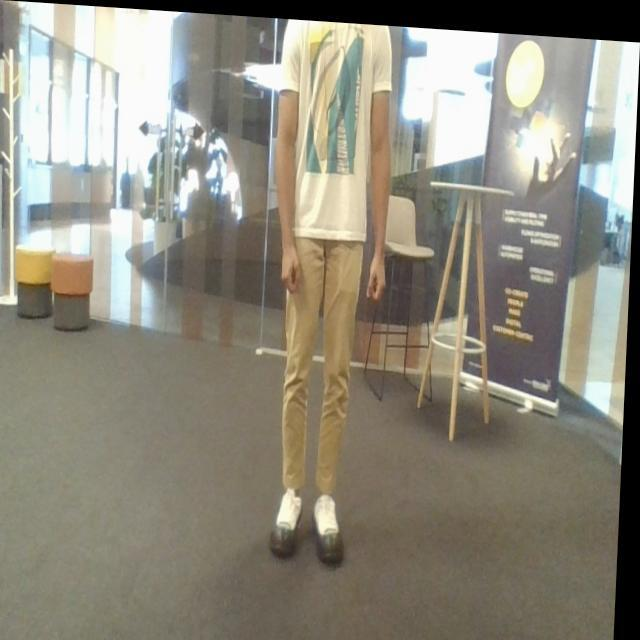shoes: (263, 483, 311, 556), (309, 493, 346, 576)
